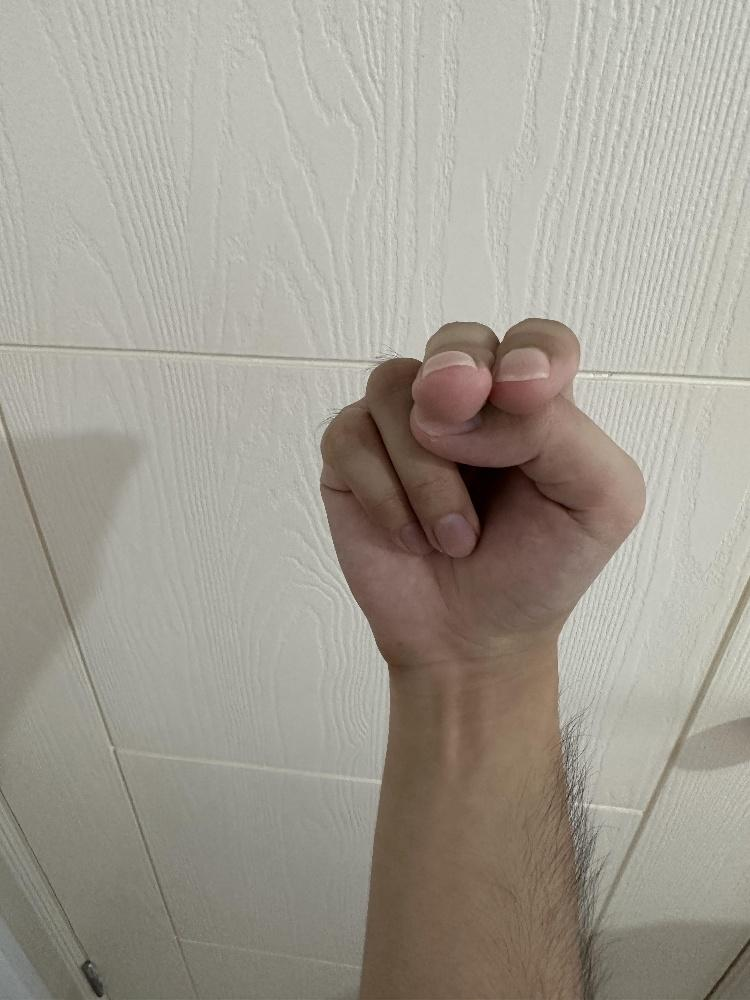n: (315, 312, 647, 668)
